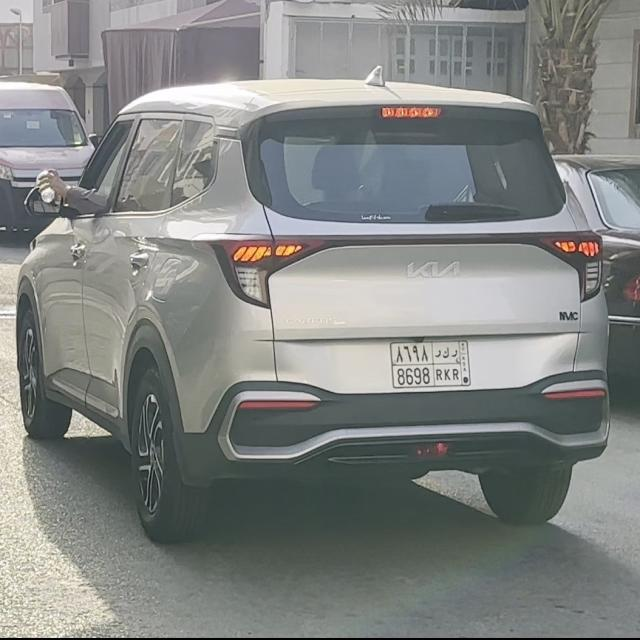Car-plate: (376, 331, 480, 393)
